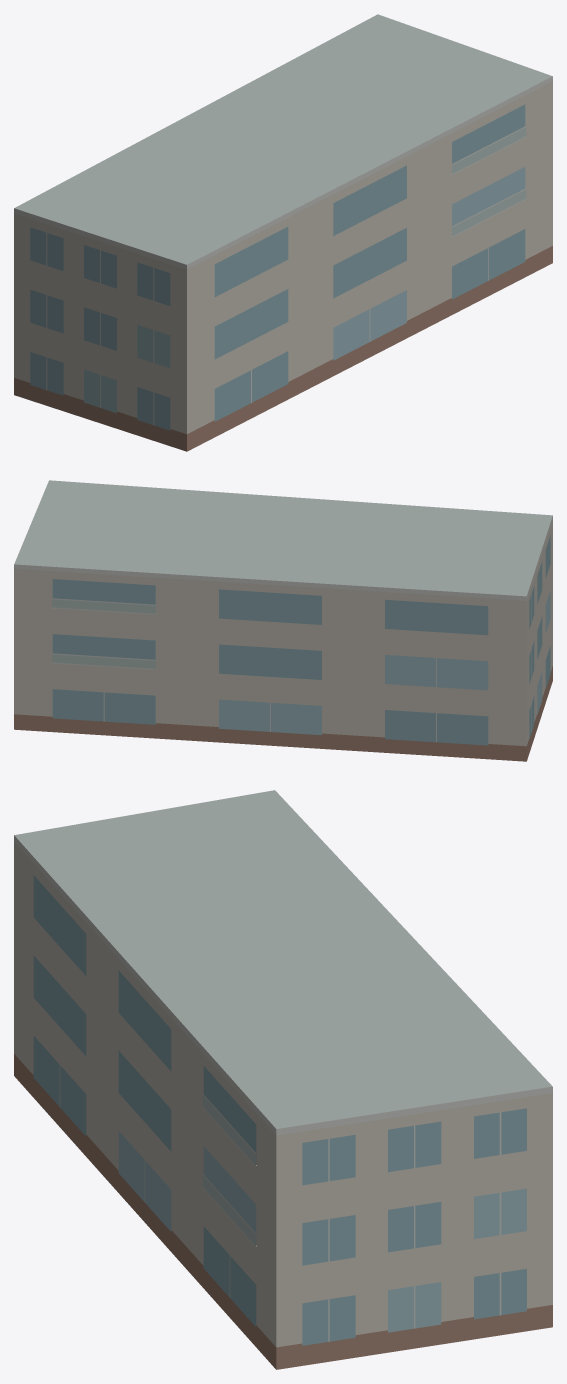
File: survey-upis-32933175.glb
3 renders of one model, top to bottom at view 1: azimuth 30°, elevation 25°; view 2: azimuth 150°, elevation 25°; view 3: azimuth 270°, elevation 25°, orthographic. The views are drawn at different scales.
Parts seen in each view (by area): view 1: survey-upis-32933175.tmp; view 2: survey-upis-32933175.tmp; view 3: survey-upis-32933175.tmp.
Boxes of the visible parts, x1,y1,x2,y2 form: survey-upis-32933175.tmp: (14, 14, 552, 451); survey-upis-32933175.tmp: (14, 480, 552, 761); survey-upis-32933175.tmp: (14, 790, 552, 1369).
Bounding box in the file's own units: 27.65 × 9.15 × 18.57.
